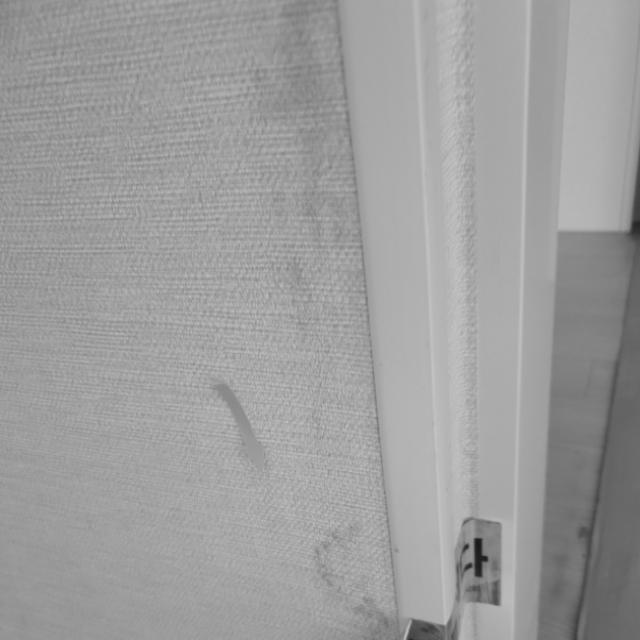stain marks: (241, 0, 373, 444), (297, 498, 389, 626)
